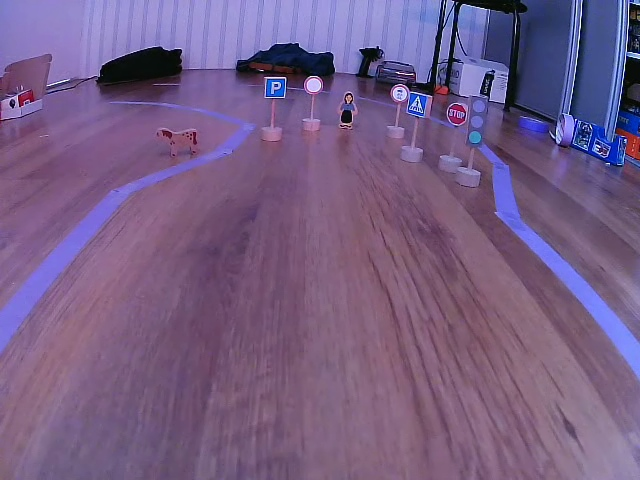fietspad: (390, 82, 408, 104)
groenlicht: (467, 94, 490, 147)
mens: (338, 89, 355, 129)
paard: (154, 126, 203, 158)
parkeerbord: (263, 76, 286, 99)
stopbord: (445, 102, 467, 125)
wegdicht: (304, 74, 323, 96)
zebrapad: (408, 94, 432, 114)
